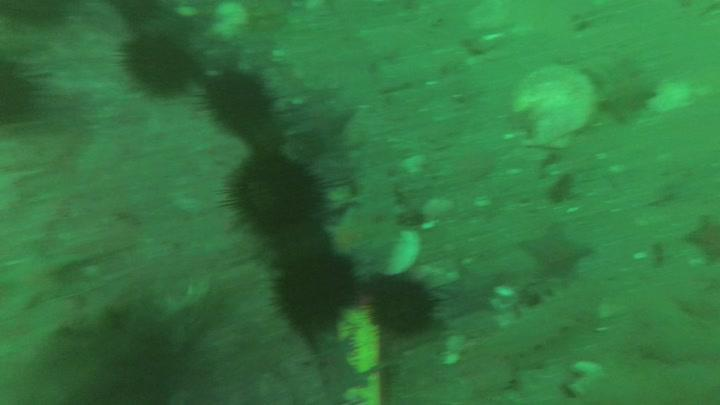urchin: (216, 146, 337, 237), (261, 249, 362, 337), (109, 29, 203, 99), (201, 63, 280, 137), (371, 277, 442, 345)
